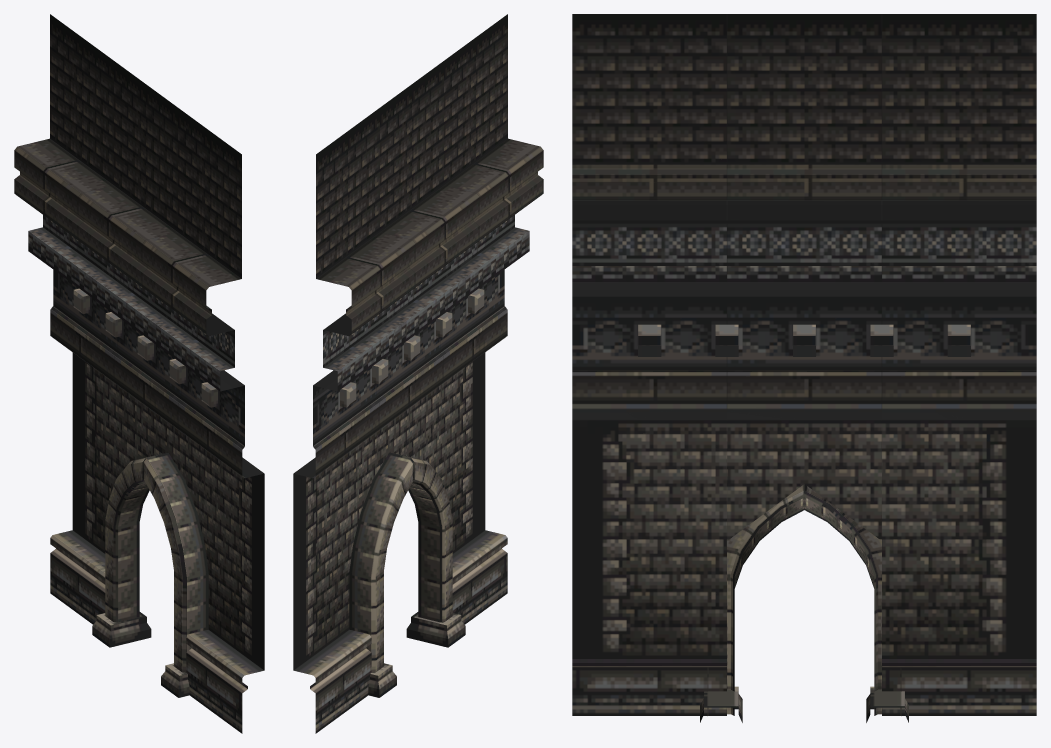
Rendered from EnvMdrMD_Castle_A_Wall_Door_A.FBX.
3 renders of one model, left to right at view 1: azimuth 30°, elevation 25°; view 2: azimuth 150°, elevation 25°; view 3: azimuth 270°, elevation 25°, orthographic. The views are drawn at different scales.
Visible parts, largest first — view 1: EnvMdrMD_Castle_A_Wall_Door_A; view 2: EnvMdrMD_Castle_A_Wall_Door_A; view 3: EnvMdrMD_Castle_A_Wall_Door_A.
Part boxes in pixels (x1,y1,x2,y2): EnvMdrMD_Castle_A_Wall_Door_A: (14,14,264,733); EnvMdrMD_Castle_A_Wall_Door_A: (293,14,543,733); EnvMdrMD_Castle_A_Wall_Door_A: (572,14,1036,722).
Bounding box in the file's own units: 120 × 1000 × 600.
1 material, 1 textured.
